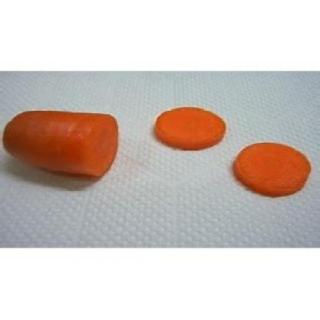carrot: (1, 103, 127, 185)
